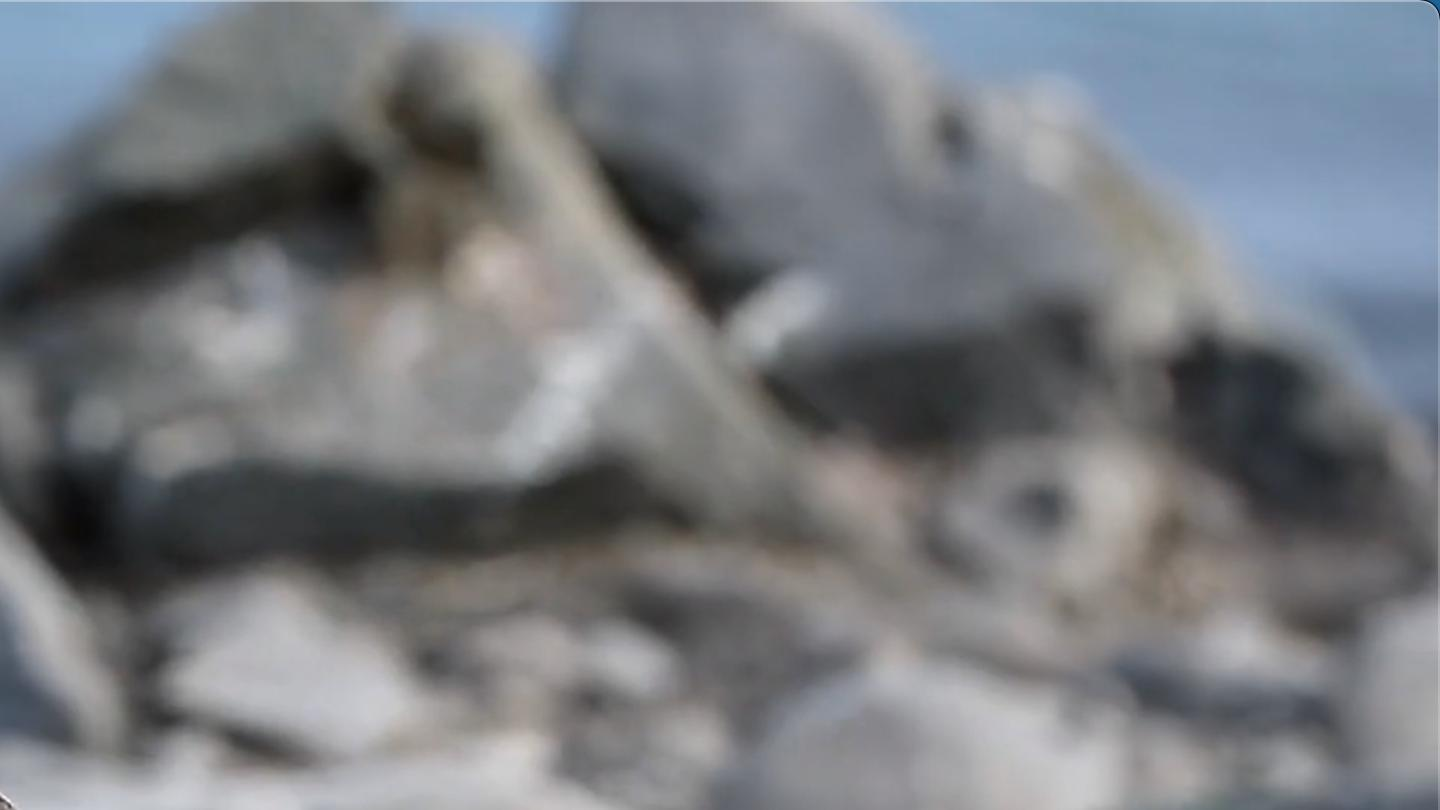Chinstrap Penguin: (0, 460, 103, 810)
